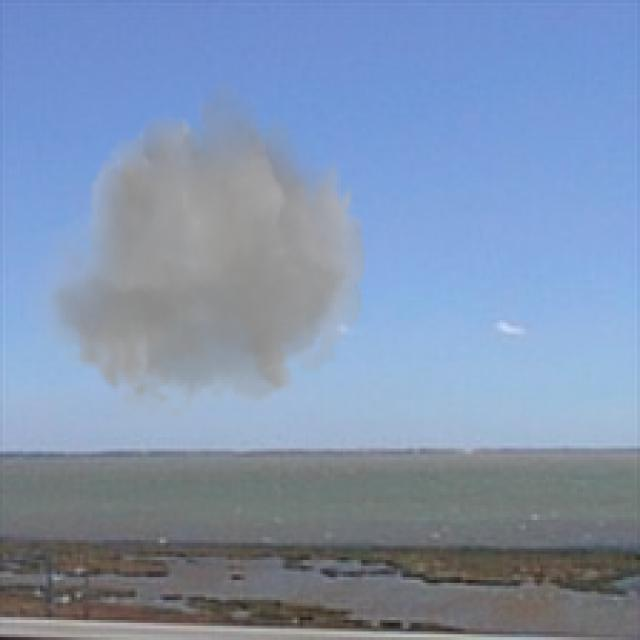smoke: (20, 72, 374, 437)
